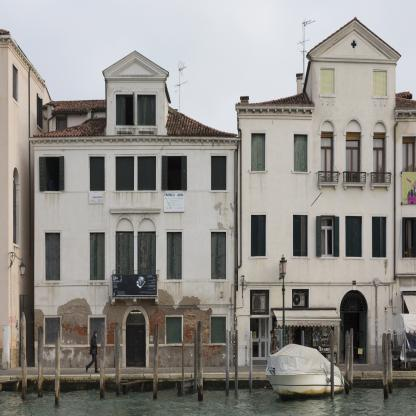Balcony: (111, 275, 160, 299), (346, 148, 360, 182), (343, 171, 367, 186), (370, 172, 392, 187), (318, 171, 339, 186)
Building Outline: (29, 16, 416, 368)
Cornice: (316, 28, 393, 59), (105, 56, 164, 74), (110, 206, 161, 213)
Deco: (137, 218, 156, 232), (116, 218, 134, 232), (346, 119, 362, 132), (373, 121, 387, 133), (321, 120, 335, 132), (351, 38, 358, 50)
Door: (340, 312, 368, 364), (137, 233, 156, 296), (116, 233, 134, 296), (126, 325, 146, 368), (250, 318, 267, 360), (321, 147, 333, 182), (373, 149, 385, 182)
Facade: (29, 17, 415, 368)
Floor: (35, 213, 237, 308), (237, 118, 416, 203), (237, 203, 416, 277), (35, 150, 237, 213)
Floor Slab: (35, 145, 238, 150), (35, 208, 237, 213), (34, 304, 236, 309), (237, 112, 416, 117), (237, 198, 416, 203), (237, 273, 416, 278)
Ground Floor: (237, 278, 416, 365), (34, 308, 236, 368)
Molding: (33, 137, 238, 145), (235, 106, 315, 115)
Roof: (33, 106, 238, 137), (235, 90, 315, 109), (396, 91, 416, 110)
Shop: (272, 316, 334, 364), (296, 321, 322, 325)
Top Floor: (310, 58, 398, 117), (106, 76, 165, 150)
Window: (90, 233, 105, 281), (46, 233, 61, 281), (167, 232, 182, 279), (211, 232, 226, 279), (346, 216, 363, 257), (293, 215, 308, 257), (340, 290, 368, 312), (251, 215, 266, 256), (138, 157, 156, 191), (116, 157, 134, 191), (372, 217, 387, 257), (321, 216, 335, 257), (137, 95, 156, 125), (89, 156, 105, 191), (402, 218, 416, 258), (116, 95, 134, 126), (44, 157, 60, 191), (211, 156, 227, 190), (167, 156, 182, 190), (252, 133, 265, 171), (294, 134, 307, 172), (250, 289, 269, 315), (166, 317, 182, 344), (90, 318, 105, 344), (46, 318, 61, 344), (211, 317, 226, 343), (373, 69, 387, 96), (292, 289, 309, 310), (321, 68, 334, 94), (126, 310, 146, 325), (346, 134, 360, 147), (321, 133, 333, 147), (373, 135, 385, 148)
